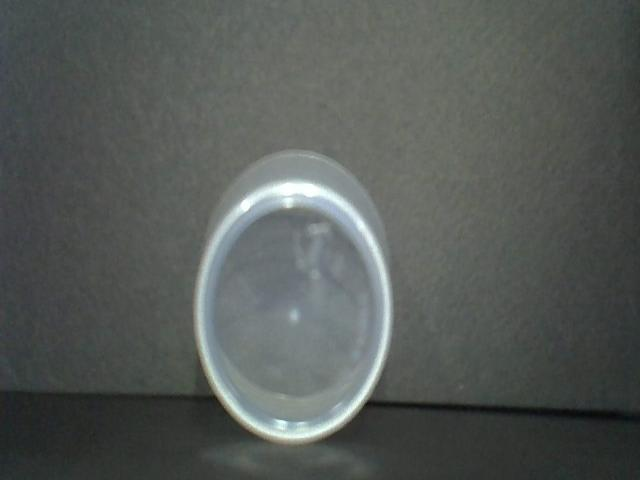cup: (183, 144, 407, 450)
